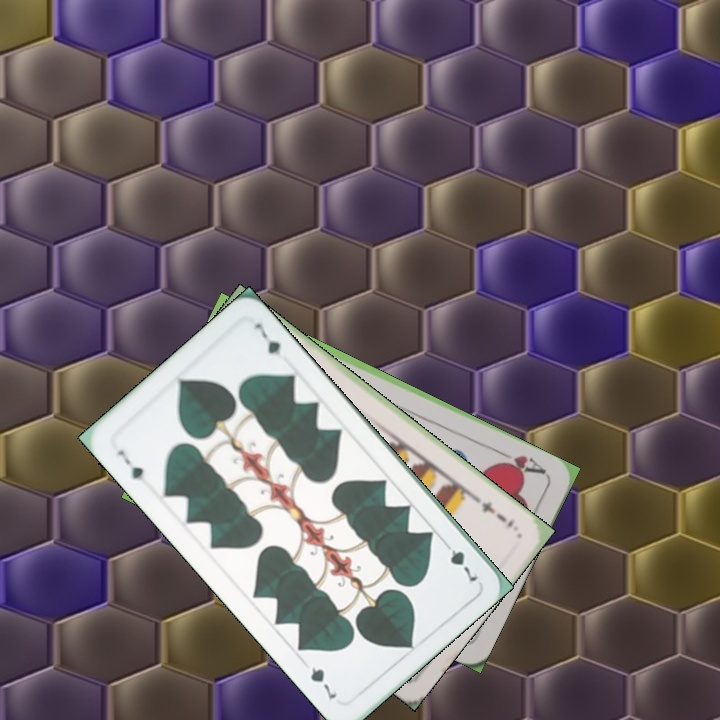E7: (471, 493, 517, 531)
G7: (437, 535, 481, 585), (113, 446, 149, 489)
HA: (493, 446, 549, 478)
